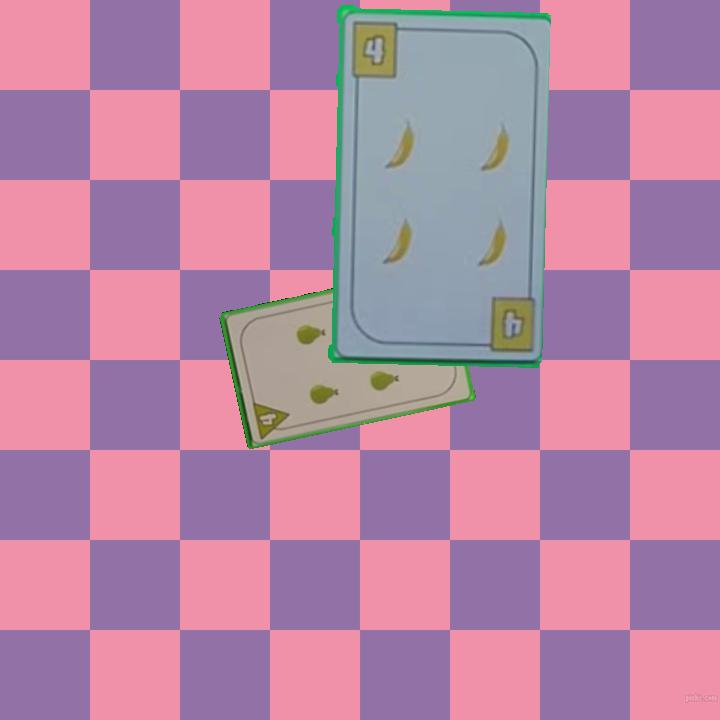4b: (468, 292, 535, 354), (346, 17, 409, 79)
4p: (249, 397, 294, 442)
